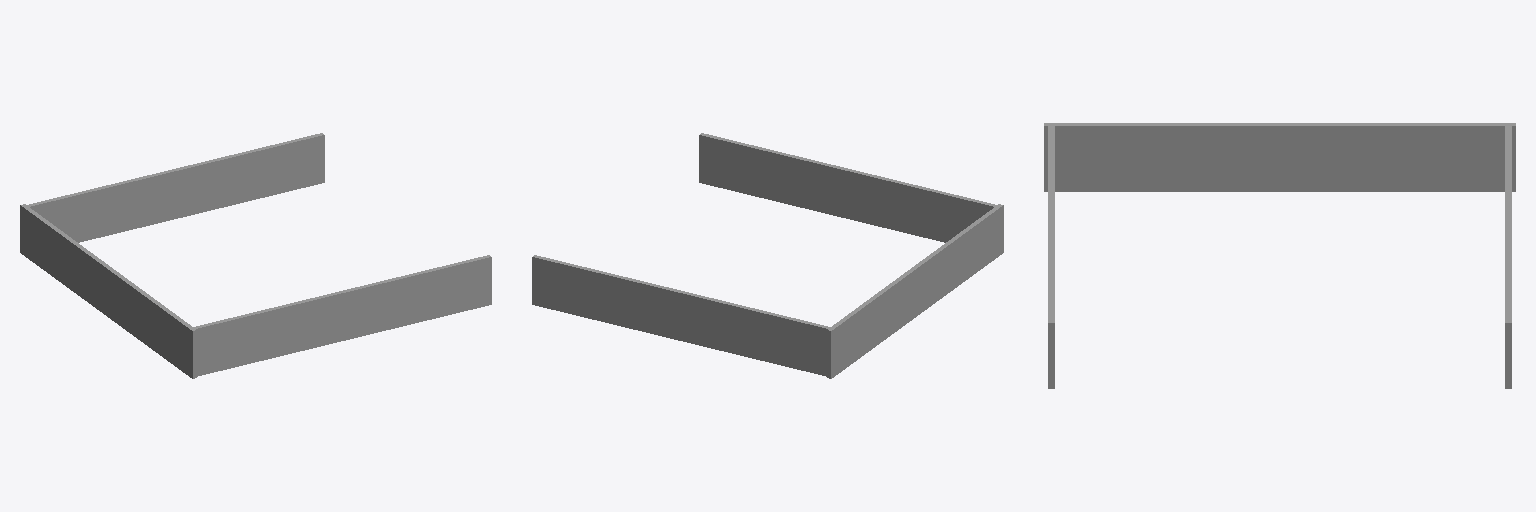
robot.urdf — bowl.urdf:
<?xml version="0.0" ?>
<robot name="bowl.urdf">
  <material name="color">
    <color rgba=".67 .67 .67 1."/>
  </material>

  <link name="world"/>

  <link name="base">
    <inertial>
      <origin rpy="0 0 0" xyz="0.0 0.0 0.0"/>
       <mass value=".1"/>
       <inertia ixx="1" ixy="0" ixz="0" iyy="1" iyz="0" izz="1"/>
    </inertial>
    <visual>
      <!-- right -->
      <origin rpy="0 0 0" xyz="0 -.315 0"/>
      <geometry>
        <box size=".65 .01 .1"/>
      </geometry>
      <material name="color"/>
    </visual>
    <visual>
      <!-- left -->
      <origin rpy="0 0 0" xyz="0 .315 0"/>
      <geometry>
        <box size=".65 .01 .1"/>
      </geometry>
      <material name="color"/>
    </visual>
    <visual>
      <!-- back -->
      <origin rpy="0 0 0" xyz="-.325 0 0"/>
      <geometry>
        <box size=".01 .65 .1"/>
      </geometry>
      <material name="color"/>
    </visual>
    <collision>
      <!-- right -->
      <origin rpy="0 0 0" xyz="0 -.45 0"/>
      <geometry>
        <box size="1 .01 .1"/>
      </geometry>
    </collision>
    <collision>
      <!-- left -->
      <origin rpy="0 0 0" xyz="0 .45 0"/>
      <geometry>
        <box size="1 .01 .1"/>
      </geometry>
    </collision>
    <collision>
      <!-- back -->
      <origin rpy="0 0 0" xyz="-.45 0 0"/>
      <geometry>
        <box size=".01 1 .1"/>
      </geometry>
    </collision>
  </link>

  <joint name="base_joint" type="fixed">
    <parent link="world"/>
    <child link="base"/>
  </joint>

</robot>

--- Facts derived from the render (not from the file) ---
3 views of the same robot in one strip: view 1: azimuth 30°, elevation 25°; view 2: azimuth 150°, elevation 25°; view 3: azimuth 270°, elevation 25° (orthographic).
Robot: bowl.urdf — 2 links, 1 joints (1 fixed); root link world; default pose: every joint at zero.
Visible links, largest first — view 1: base; view 2: base; view 3: base.
Boxes of the visible links, <box> form: base: <box>20,133,491,378</box>; base: <box>532,133,1003,378</box>; base: <box>1044,123,1515,388</box>.
Size in the robot's own frame: 0.655 by 0.65 by 0.1 metres.
Geometry: primitives only (box / cylinder / sphere), no mesh files.